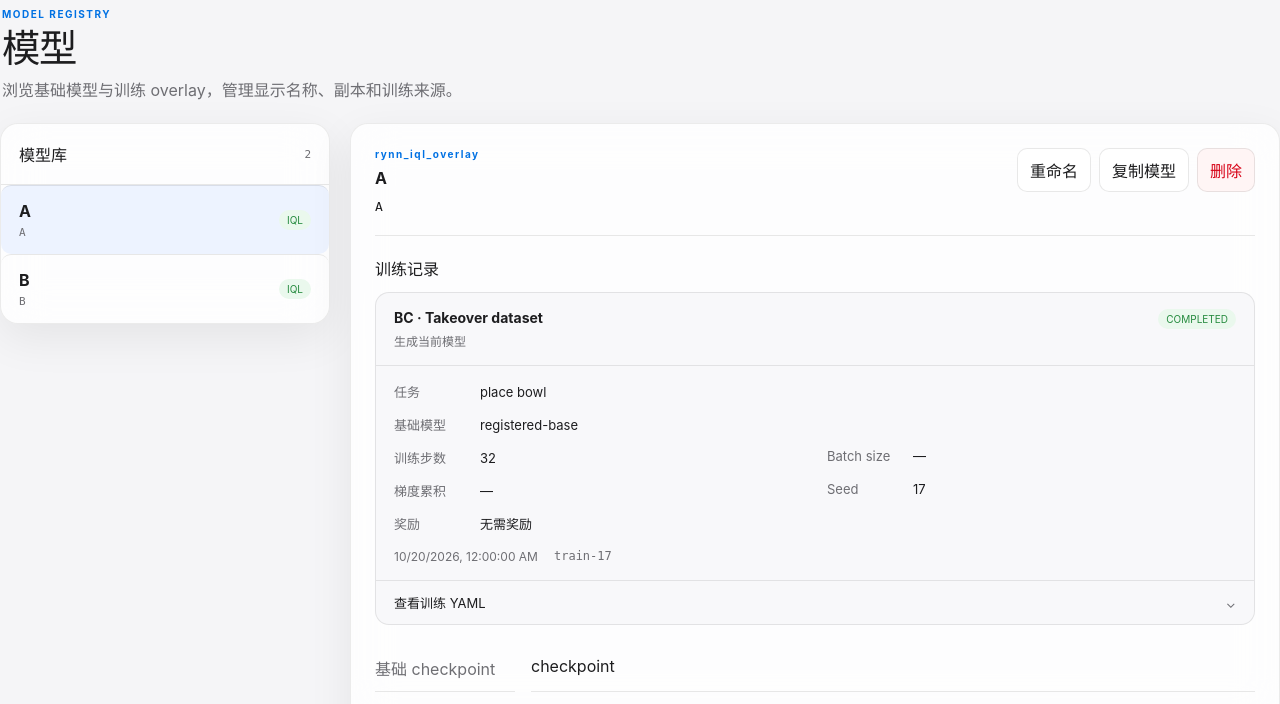
it: discards an in-flight YAML result after switching models
Click the button "查看训练 YAML ⌄": click(440, 603) [376, 580, 1254, 624]
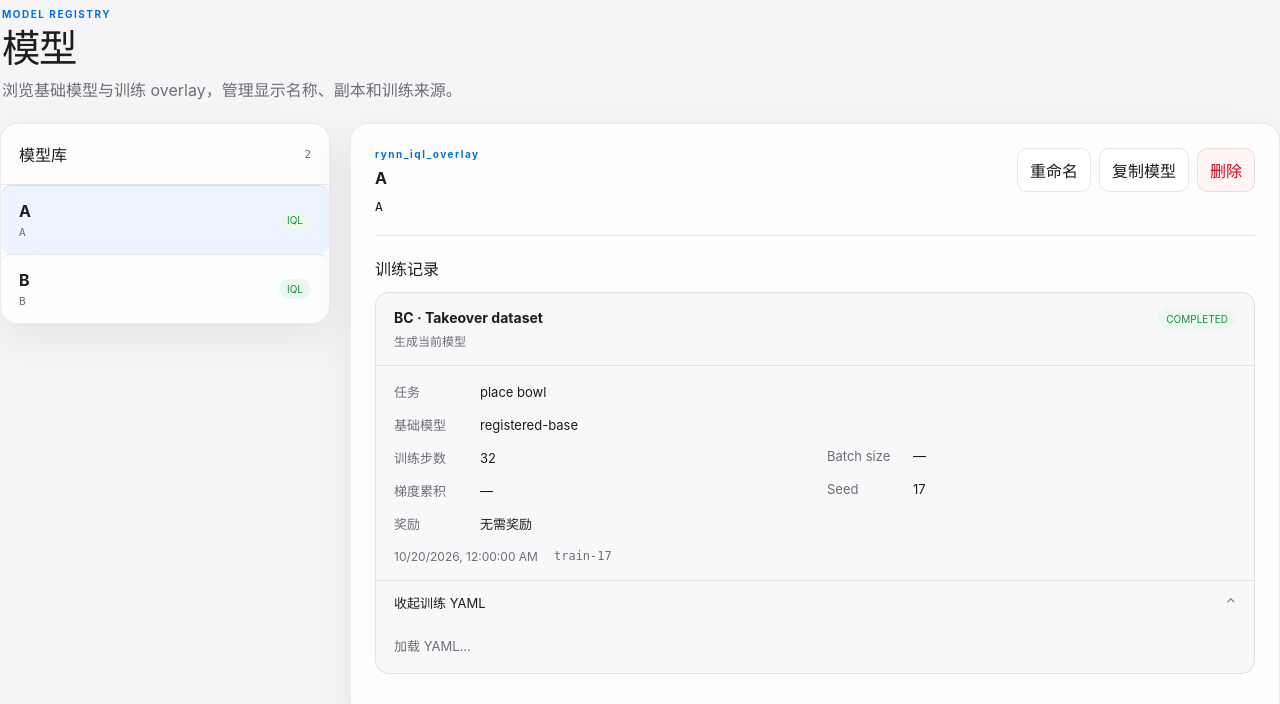
Click the button "B B IQL": click(295, 289) [1, 254, 329, 324]
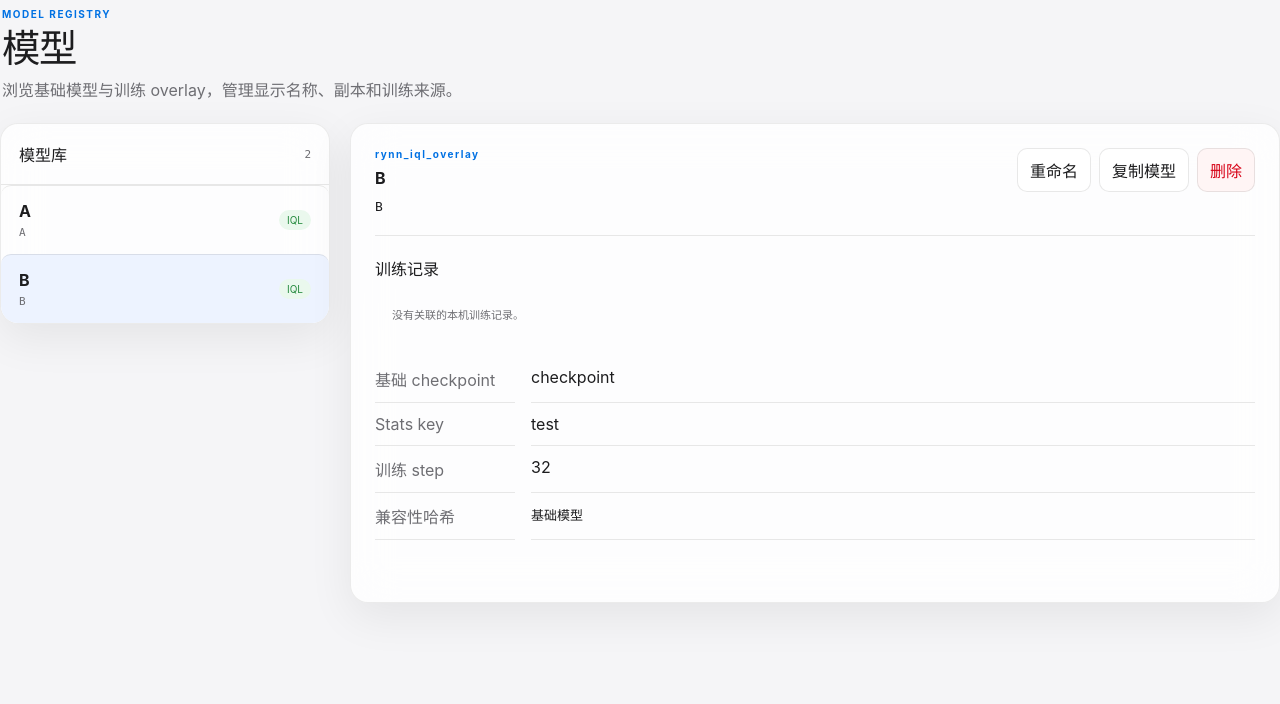
Expected: the heading "B" is shown, [375, 168, 385, 188]
